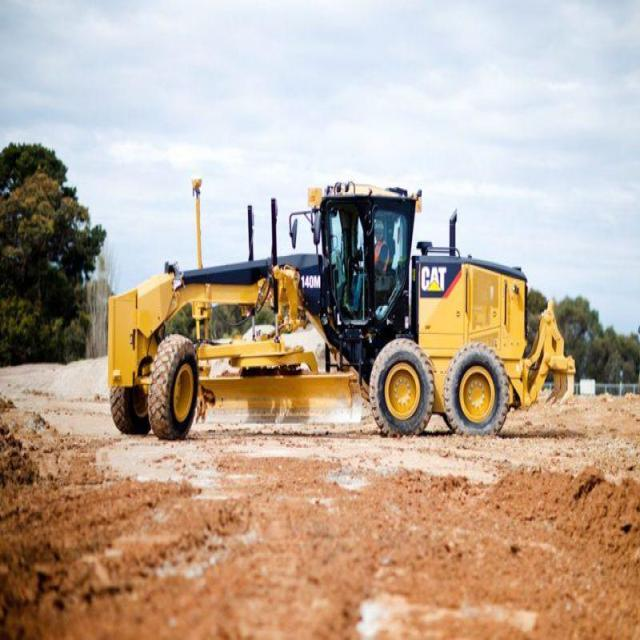buldozerpayloadergrader: (92, 152, 587, 475)
